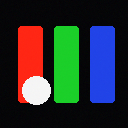2 circle: (22, 76, 50, 104)
